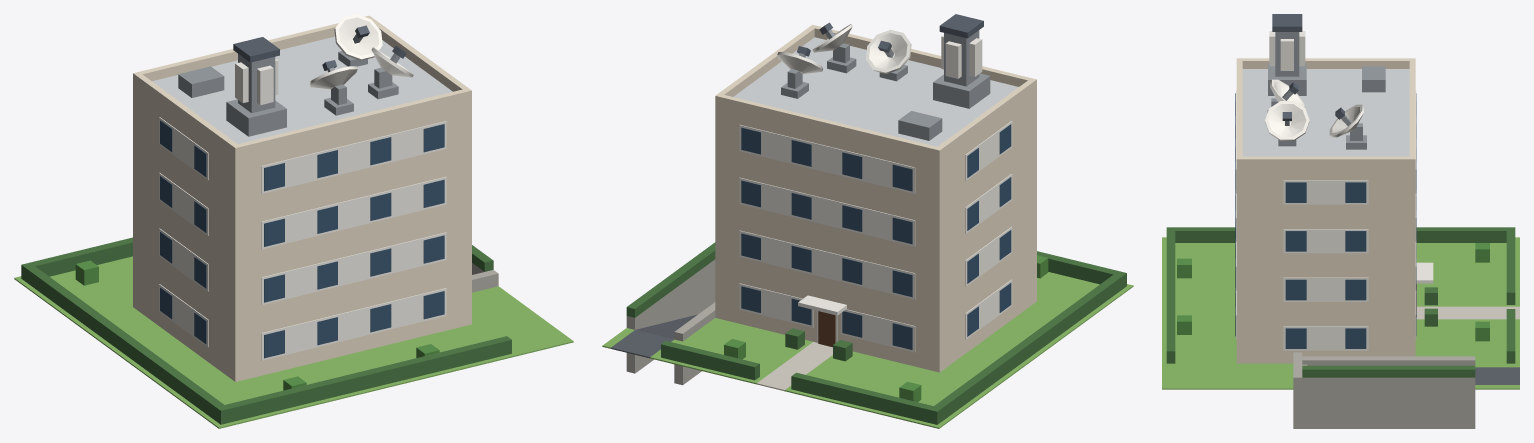
Rendered from spyagency.glb.
3 views of the same model, side by side, from view 1: azimuth 30°, elevation 25°; view 2: azimuth 150°, elevation 25°; view 3: azimuth 270°, elevation 25° (orthographic). The views are drawn at different scales.
Parts seen in each view (by area): view 1: office_block, band_frame (×8), lawn, hedge (×3), roof, parapet, window_glass (×8), antenna_block (×2), satellite_dish (×2), antenna_panel (×2), ac_unit, antenna_cap; view 2: office_block, band_frame (×9), lawn (×2), hedge (×5), roof, parapet, ramp_wall (×2), antenna_block (×2), satellite_dish (×2), path, antenna_panel (×2), ac_unit (+5 smaller); view 3: office_block, lawn (×2), ramp_wall (×2), roof, hedge (×5), band_frame (×4), parapet, window_glass (×8), satellite_dish (×3), antenna_block (×2), path, drive (+5 smaller).
Part boxes in pixels (x1,y1,x2,y2): office_block: [133, 86, 471, 381]; band_frame (×8): [159, 117, 446, 360]; lawn: [14, 256, 573, 428]; hedge (×3): [21, 237, 511, 424]; roof: [152, 36, 452, 143]; parapet: [133, 15, 471, 160]; window_glass (×8): [370, 124, 444, 332]; antenna_block (×2): [226, 54, 286, 136]; satellite_dish (×2): [309, 14, 382, 89]; antenna_panel (×2): [235, 62, 273, 105]; ac_unit: [178, 66, 224, 97]; antenna_cap: [233, 37, 279, 62]; office_block: [715, 91, 1036, 372]; band_frame (×9): [739, 121, 1012, 352]; lawn (×2): [650, 272, 1133, 428]; hedge (×5): [626, 242, 1126, 424]; roof: [733, 37, 1018, 146]; parapet: [715, 24, 1036, 162]; ramp_wall (×2): [626, 259, 715, 385]; antenna_block (×2): [933, 30, 990, 108]; satellite_dish (×2): [777, 29, 911, 73]; path: [756, 342, 832, 391]; antenna_panel (×2): [945, 38, 982, 78]; ac_unit: [898, 111, 942, 140]; office_block: [1236, 170, 1415, 363]; lawn (×2): [1162, 237, 1519, 389]; ramp_wall (×2): [1302, 356, 1475, 428]; roof: [1242, 69, 1409, 156]; hedge (×5): [1166, 227, 1515, 377]; band_frame (×4): [1283, 180, 1368, 350]; parapet: [1236, 58, 1415, 169]; window_glass (×8): [1285, 182, 1366, 348]; satellite_dish (×3): [1265, 79, 1363, 140]; antenna_block (×2): [1268, 32, 1306, 95]; path: [1416, 306, 1519, 319]; drive: [1475, 367, 1519, 384].
Size of the model in its own units: 24 by 22.5 by 24.
